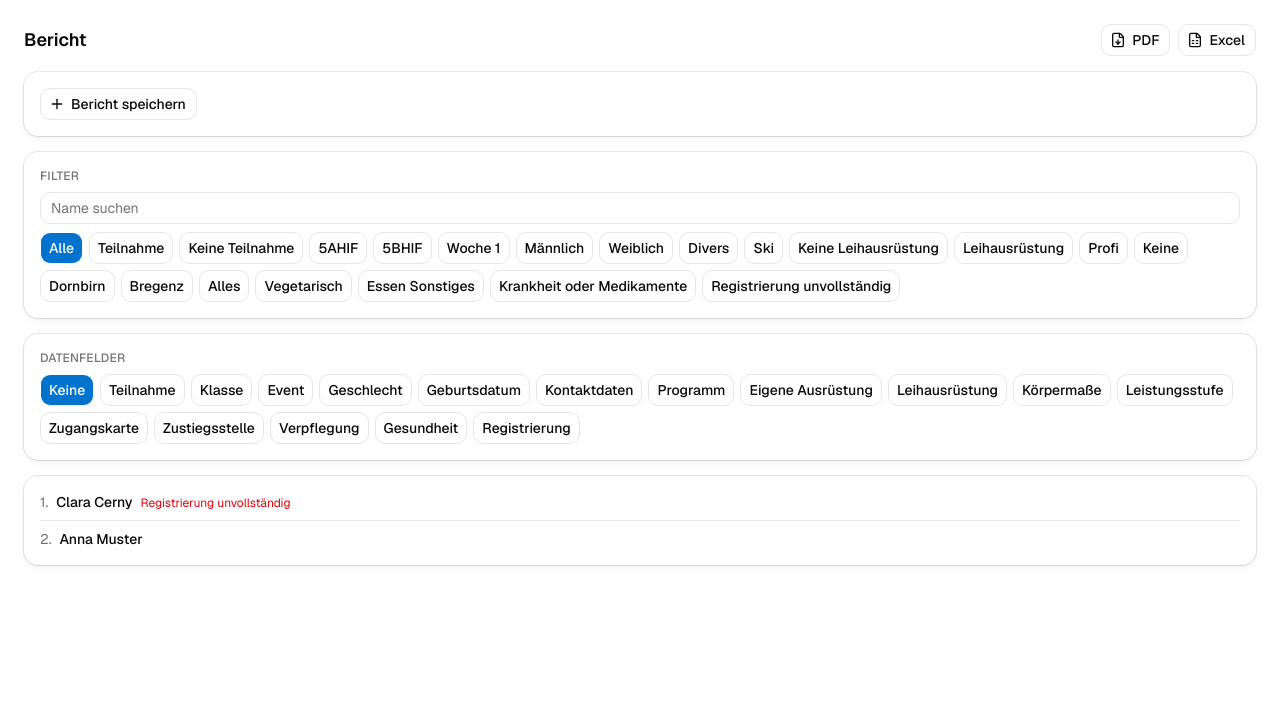
Test: ReportView › filters by whether a registration is still missing answers
What coordinates should you click on to do the following:
click the button "Registrierung unvollständig"
I would click on:
 (801, 286)
Its box is [709,276,893,296].
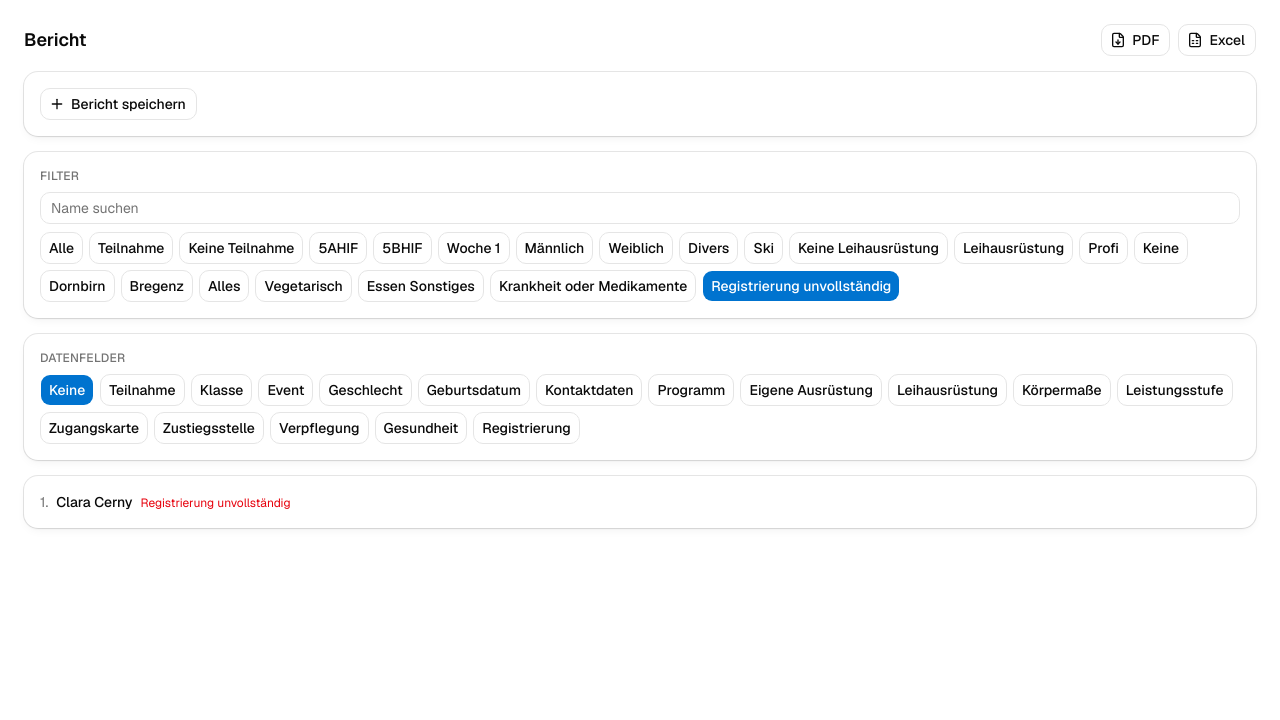
Check: the number of list items is 1, box [40,493,290,511]
